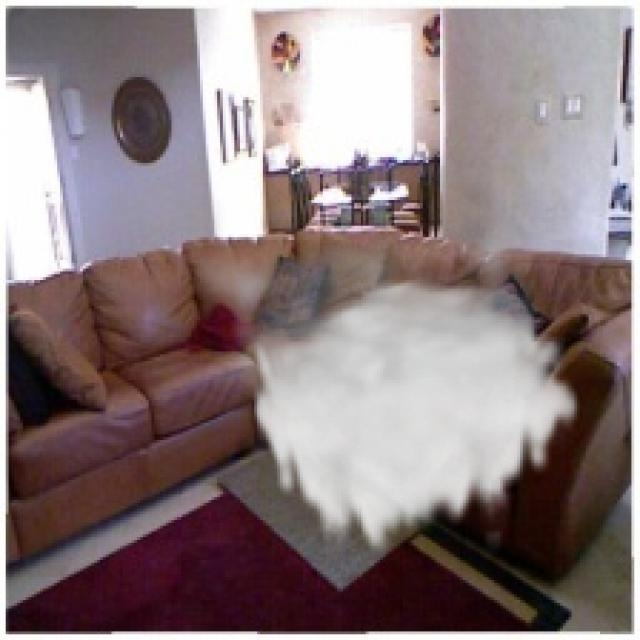smoke: (180, 211, 583, 560)
